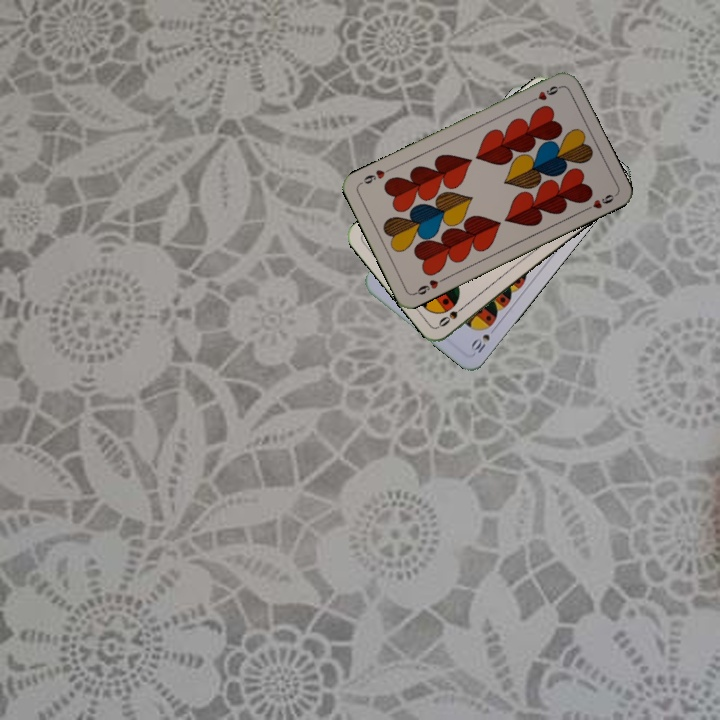H9: (410, 273, 448, 298), (526, 82, 564, 105)
S10: (466, 322, 499, 357)
SO: (434, 300, 470, 330)
